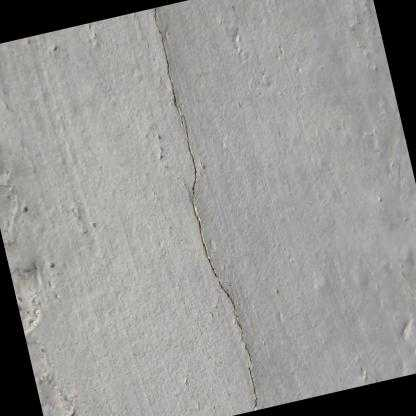crack: (182, 118, 257, 412), (152, 6, 185, 145)
